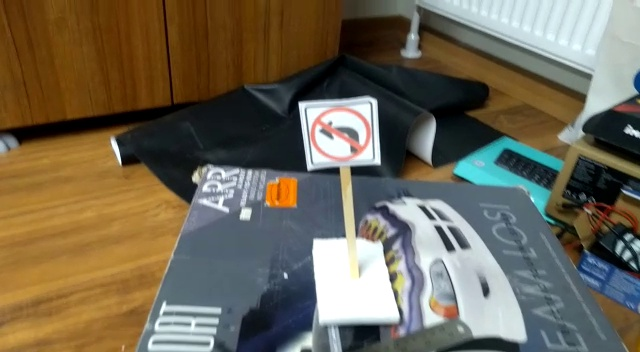sola_donulmez: (309, 106, 370, 162)
